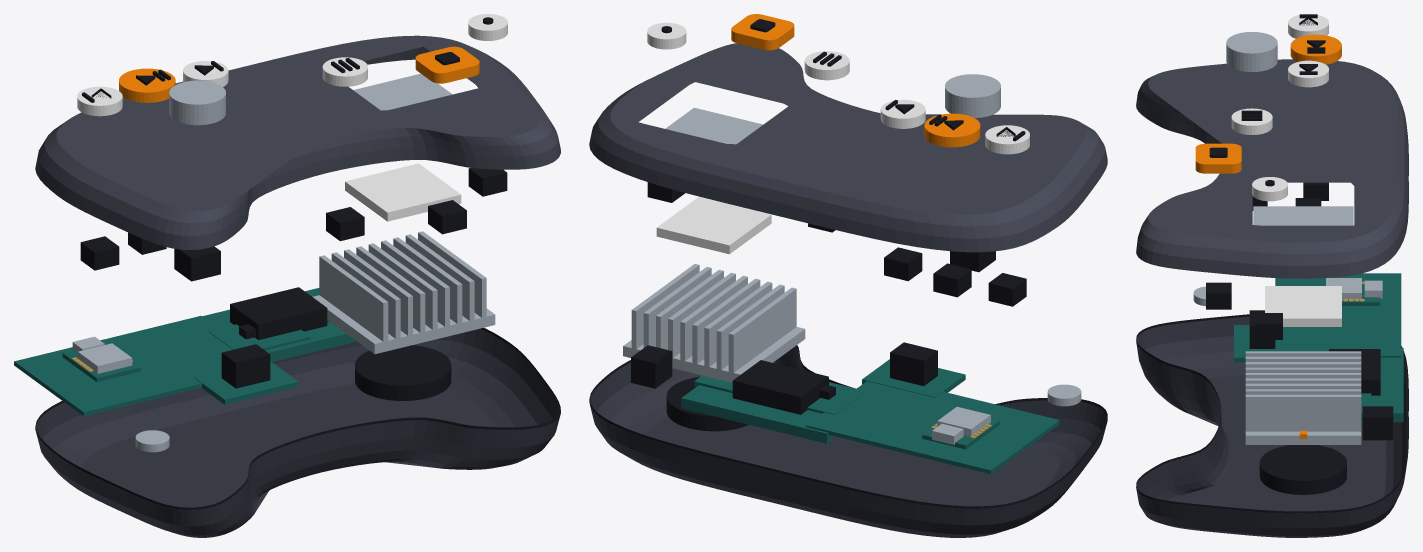
Rendered from orbit-controller-exploded.glb.
The picture shows the model from 3 angles, left to right: view 1: azimuth 30°, elevation 25°; view 2: azimuth 150°, elevation 25°; view 3: azimuth 270°, elevation 25°; orthographic projection. The views are drawn at different scales.
Parts seen in each view (by area): view 1: Calotta superiore con sede della piastra, Guscio inferiore a due impugnature, Aletta dissipatore (×9), 16 Supporto logica, 28 Ventola ingombro, 23 Cella TEC riserva, Driver potenza riserva, 22 Dissipatore base, 15 Encoder volume, Giunzione gusci, 24 Piastra di contatto, 21 Driver TEC riserva (+17 smaller); view 2: Calotta superiore con sede della piastra, Guscio inferiore a due impugnature, Aletta dissipatore (×9), 16 Supporto logica, 23 Cella TEC riserva, Driver potenza riserva, 21 Driver TEC riserva, Giunzione gusci, 15 Encoder volume, 24 Piastra di contatto, 22 Dissipatore base, Rele cutoff riserva (+16 smaller); view 3: Calotta superiore con sede della piastra, Guscio inferiore a due impugnature, Aletta dissipatore (×9), 16 Supporto logica, 28 Ventola ingombro, 23 Cella TEC riserva, 24 Piastra di contatto, 15 Encoder volume, Giunzione gusci, 22 Dissipatore base, 21 Driver TEC riserva, 13 Arresta (+15 smaller).
Part boxes in pixels (box(x1,y1,x2,y2)): Calotta superiore con sede della piastra: box(35, 35, 560, 249); Guscio inferiore a due impugnature: box(35, 328, 560, 537); Aletta dissipatore (×9): box(319, 231, 486, 341); 16 Supporto logica: box(14, 316, 232, 416); 28 Ventola ingombro: box(355, 345, 451, 400); 23 Cella TEC riserva: box(345, 163, 461, 221); Driver potenza riserva: box(230, 287, 327, 339); 22 Dissipatore base: box(312, 295, 495, 354); 15 Encoder volume: box(169, 80, 225, 125); Giunzione gusci: box(35, 328, 560, 510); 24 Piastra di contatto: box(353, 73, 452, 110); 21 Driver TEC riserva: box(202, 288, 356, 362); Calotta superiore con sede della piastra: box(589, 43, 1107, 252); Guscio inferiore a due impugnature: box(589, 346, 1107, 537); Aletta dissipatore (×9): box(631, 264, 796, 372); 16 Supporto logica: box(806, 381, 1059, 474); 23 Cella TEC riserva: box(656, 197, 771, 254); Driver potenza riserva: box(732, 360, 828, 414); 21 Driver TEC riserva: box(681, 382, 855, 443); Giunzione gusci: box(589, 345, 1107, 508); 15 Encoder volume: box(945, 74, 1000, 117); 24 Piastra di contatto: box(665, 107, 763, 144); 22 Dissipatore base: box(623, 327, 805, 382); Rele cutoff riserva: box(890, 342, 937, 386); Calotta superiore con sede della piastra: box(1136, 59, 1408, 278); Guscio inferiore a due impugnature: box(1136, 316, 1408, 537); Aletta dissipatore (×9): box(1245, 351, 1361, 431); 16 Supporto logica: box(1275, 273, 1401, 357); 28 Ventola ingombro: box(1259, 445, 1346, 494); 23 Cella TEC riserva: box(1265, 286, 1341, 326); 24 Piastra di contatto: box(1253, 206, 1353, 225); 15 Encoder volume: box(1226, 32, 1277, 71); Giunzione gusci: box(1136, 314, 1408, 513); 22 Dissipatore base: box(1245, 431, 1361, 444); 21 Driver TEC riserva: box(1361, 348, 1403, 422); 13 Arresta: box(1195, 143, 1241, 173).
Size of the model in its own units: 0.184 by 0.155 by 0.1062.
